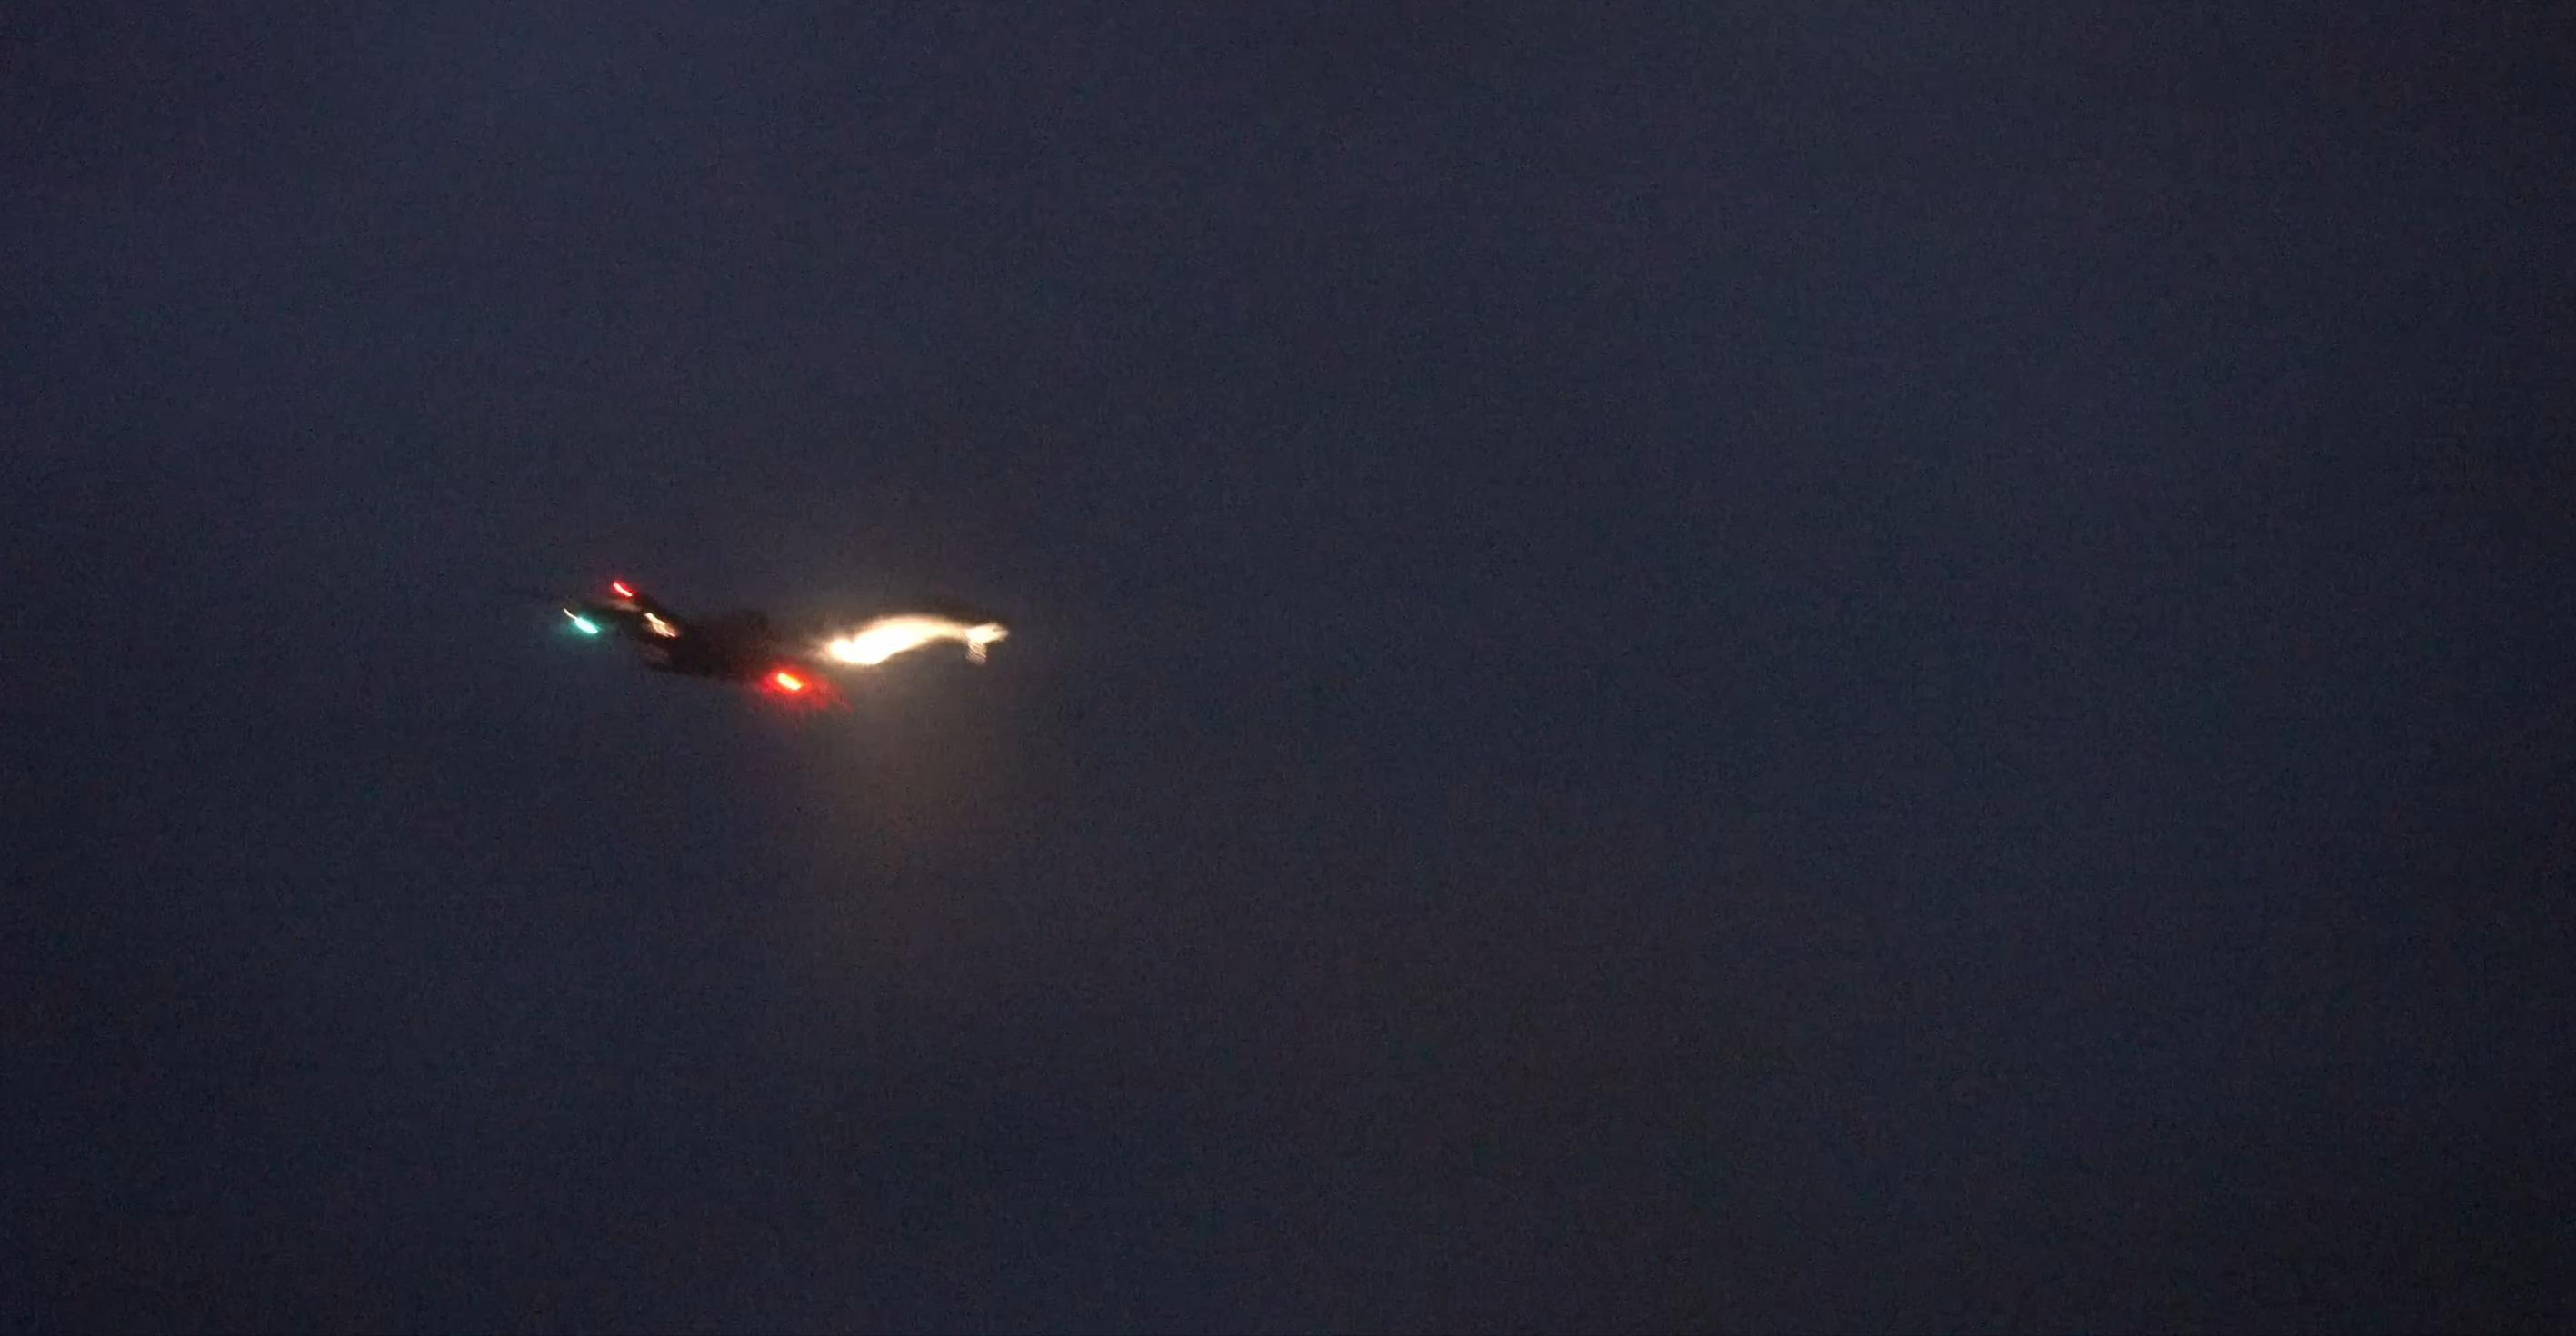Plane: (566, 574, 1012, 724)
